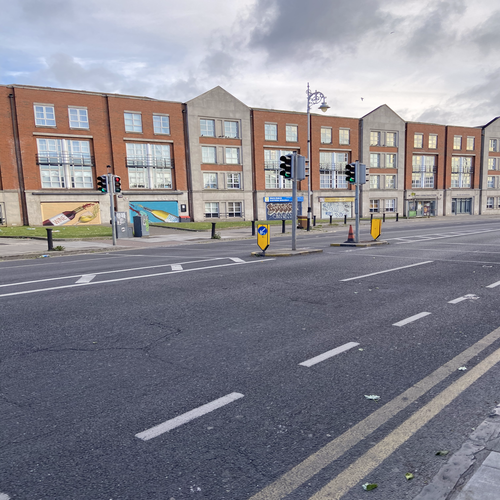Keep Left: (257, 222, 271, 256)
Traffic Light: (342, 161, 364, 193), (278, 154, 296, 183), (92, 173, 110, 196), (112, 173, 124, 198)
